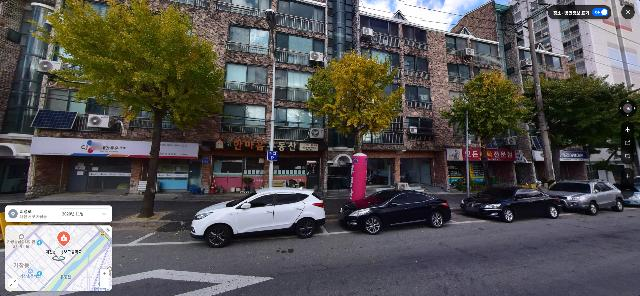other: (28, 0, 227, 219), (439, 67, 541, 188), (536, 75, 639, 180), (305, 50, 407, 153)
